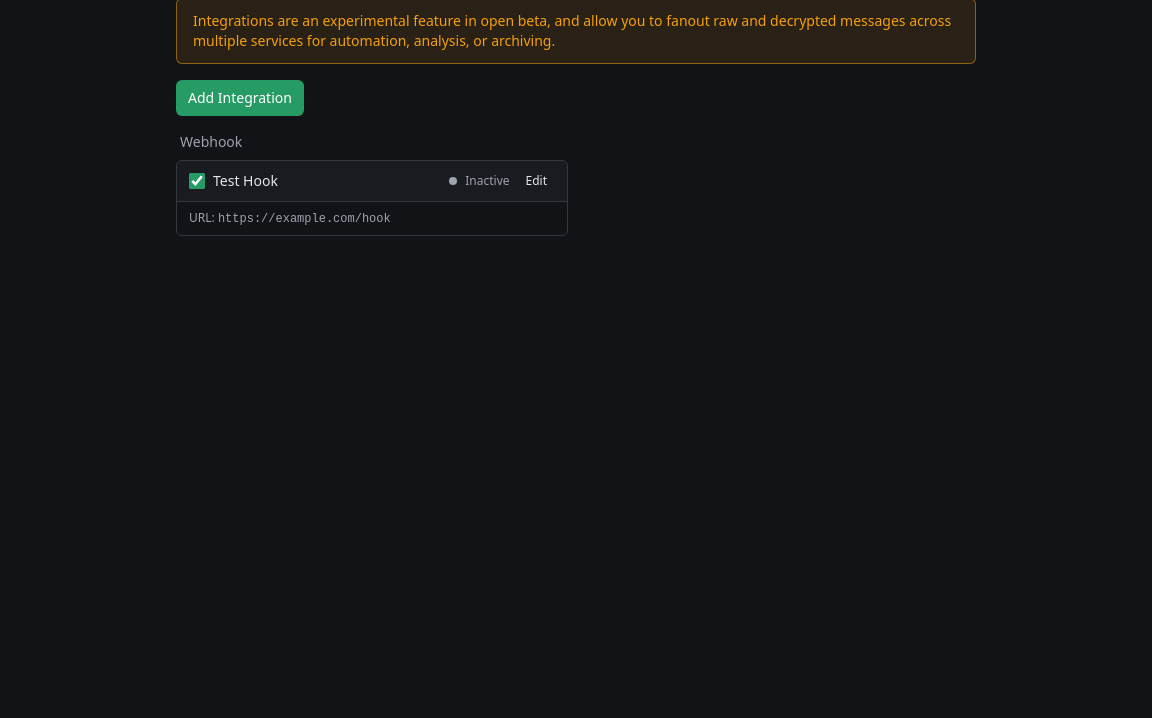
SettingsFanoutSection › webhook with persisted "none" scope renders "All messages" selected
This screenshot has width=1152, height=718.
Expected: the button "Test Hook" is shown, top-left (213, 171), bottom-right (278, 191)
Step 1. Click the button "Edit" → (536, 181), box top-left (518, 169), bottom-right (555, 193)
(page scrolled)
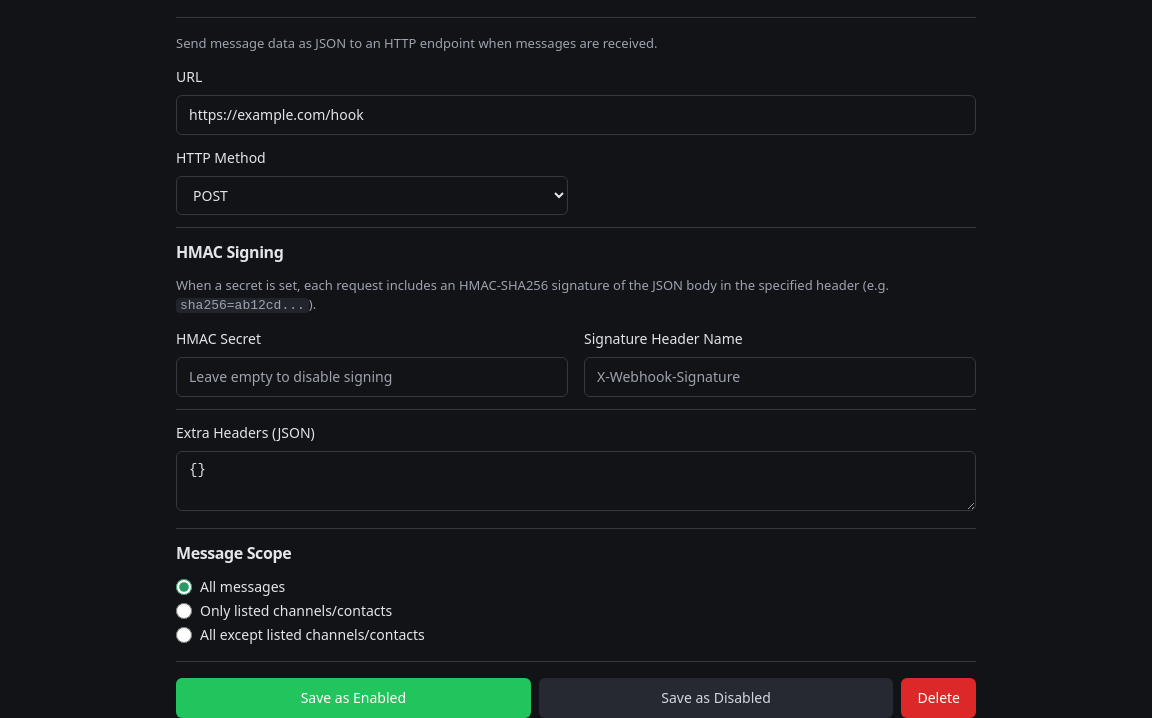
Now the radio button labelled "All messages" is checked, box top-left (176, 578), bottom-right (192, 594)
